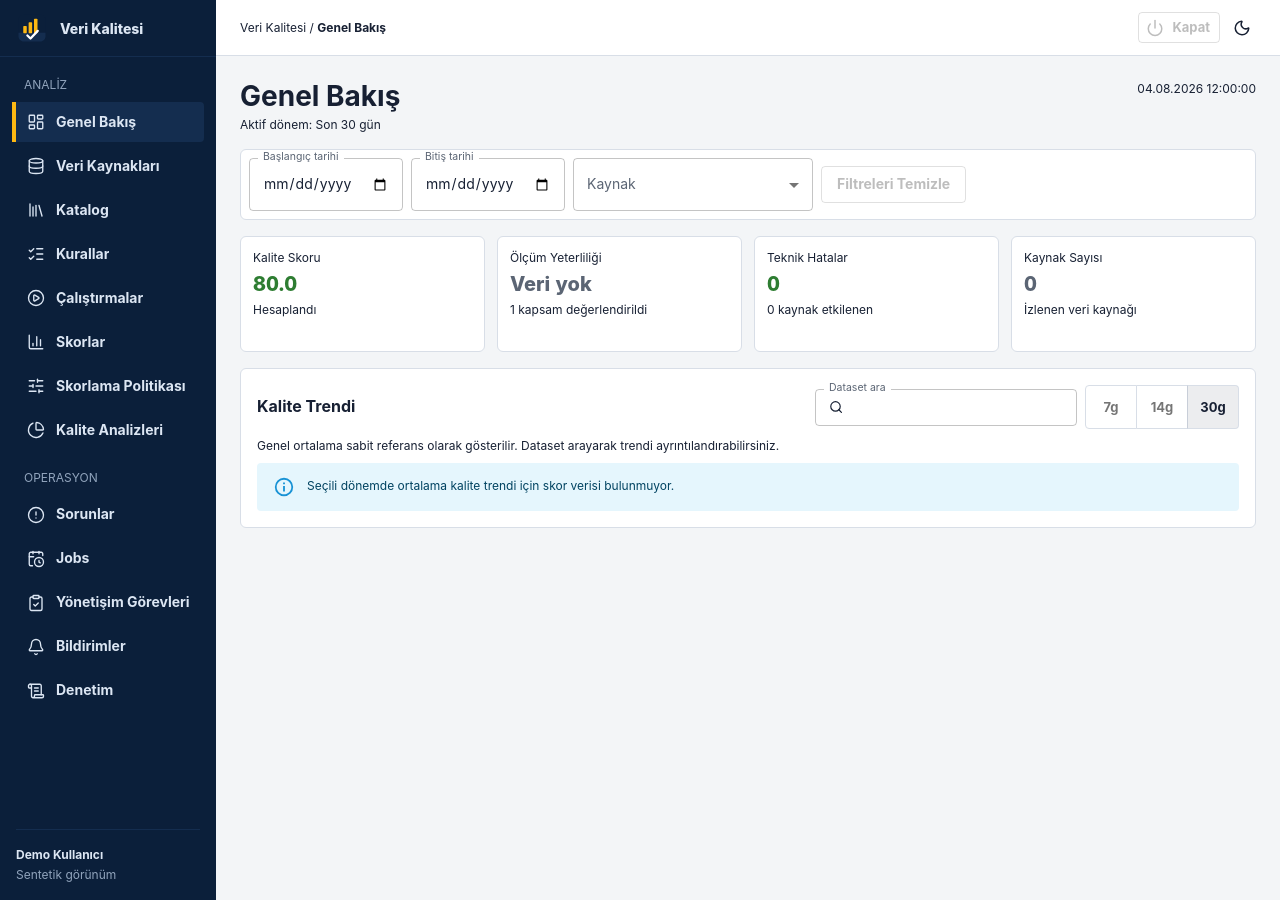
Test: Dashboard kalite trendi › eşleşme olmayan aramada bilgilendirme gösterir
Check: the text "Seçili dönemde ortalama kalite trendi için skor verisi bulunmuyor." is shown, box [307,478,674,492]
Type "olmayan-dataset" into the field labelled "Dataset ara" at [960, 407], box [843,388,1077,426]
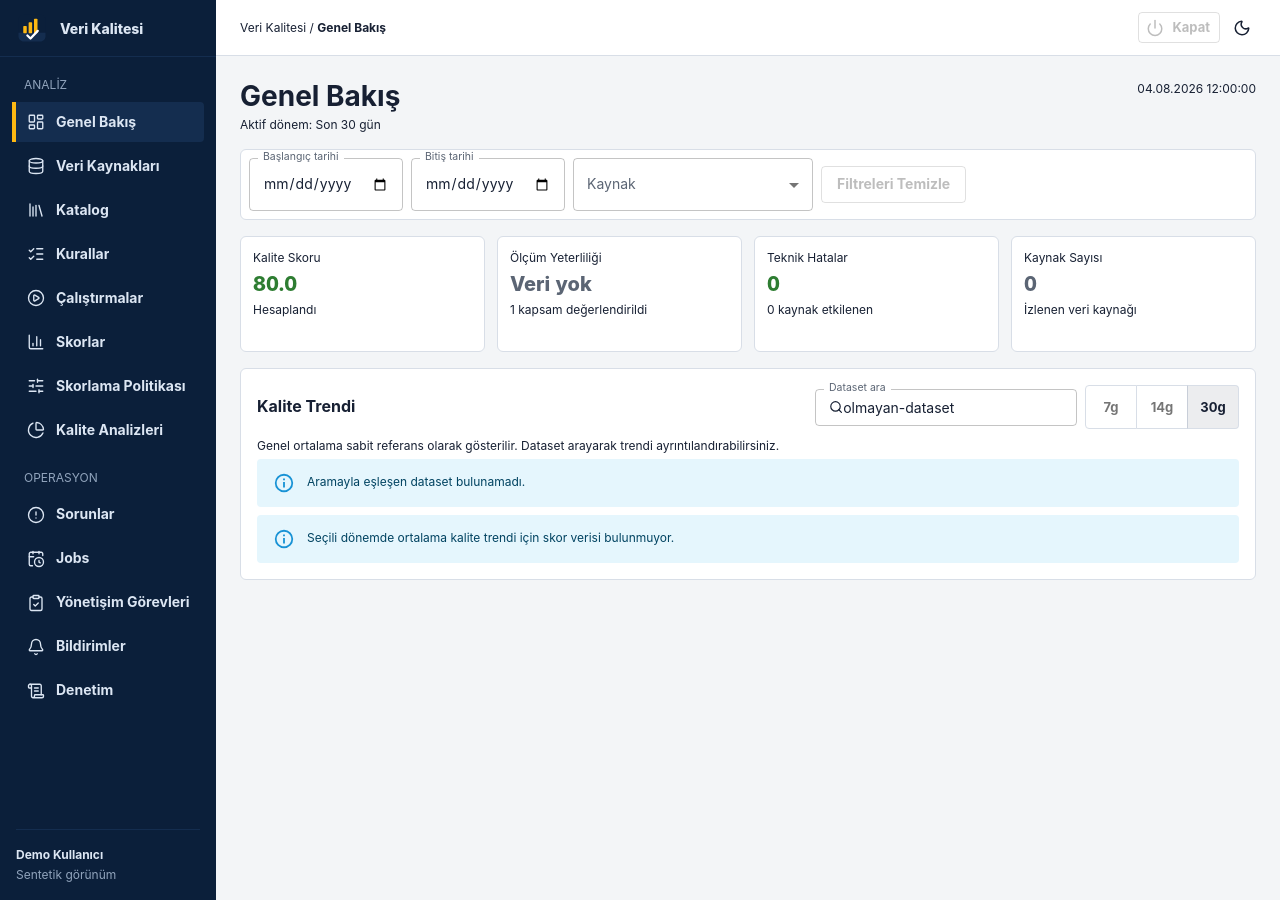
Check: the text "Aramayla eşleşen dataset bulunamadı." is shown, box [307,474,525,488]
